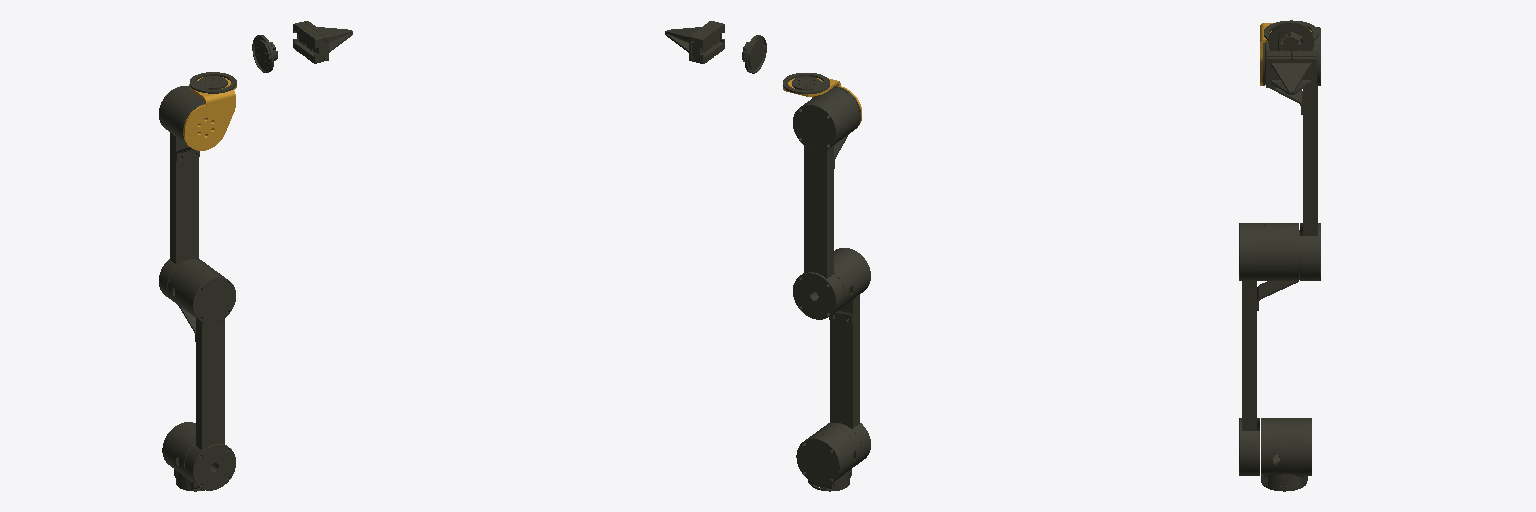
The robot description file, URDF, robot "ulixarm":
<?xml version="1.0" ?>
<!-- =================================================================================== -->
<!-- |    This document was autogenerated by xacro from src/ulixarm_description/urdf/robot.urdf.xacro | -->
<!-- |    EDITING THIS FILE BY HAND IS NOT RECOMMENDED                                 | -->
<!-- =================================================================================== -->
<robot name="ulixarm">
  <!-- CONSTANTS -->
  <!-- LINKS -->
  <link name="manipulator_base_link">
    <visual>
      <origin xyz="0. 0. 0."/>
      <geometry>
        <mesh filename="package://ulixarm_description/meshes/visual/base_link.dae"/>
      </geometry>
    </visual>
    <collision>
      <origin xyz="0. 0. 0."/>
      <geometry>
        <mesh filename="package://ulixarm_description/meshes/collision/base_link.stl"/>
      </geometry>
    </collision>
  </link>
  <link name="manipulator_link1">
    <visual>
      <origin xyz="0. 0. 0."/>
      <geometry>
        <mesh filename="package://ulixarm_description/meshes/visual/link1.dae"/>
      </geometry>
    </visual>
    <collision>
      <origin xyz="0. 0. 0."/>
      <geometry>
        <mesh filename="package://ulixarm_description/meshes/collision/link1.stl"/>
      </geometry>
    </collision>
    <inertial>
      <origin xyz="0. 0.002 0.043"/>
      <mass value="0.575"/>
      <inertia ixx="0.000434" ixy="0.0" ixz="0.0" iyy="0.000387" iyz="0.0" izz="0.000326"/>
    </inertial>
  </link>
  <link name="manipulator_link2">
    <visual>
      <origin xyz="0. 0. 0."/>
      <geometry>
        <mesh filename="package://ulixarm_description/meshes/visual/link2.dae"/>
      </geometry>
    </visual>
    <collision>
      <origin xyz="0. 0. 0."/>
      <geometry>
        <mesh filename="package://ulixarm_description/meshes/collision/link2.stl"/>
      </geometry>
    </collision>
    <inertial>
      <origin xyz="0.207 0. -0.005"/>
      <mass value="0.887"/>
      <inertia ixx="0.000679" ixy="0.0" ixz="0.001200" iyy="0.010762" iyz="0.0" izz="0.010534"/>
    </inertial>
  </link>
  <link name="manipulator_link3">
    <visual>
      <origin xyz="0. 0. 0."/>
      <geometry>
        <mesh filename="package://ulixarm_description/meshes/visual/link3.dae"/>
      </geometry>
    </visual>
    <collision>
      <origin xyz="0. 0. 0."/>
      <geometry>
        <mesh filename="package://ulixarm_description/meshes/collision/link3.stl"/>
      </geometry>
    </collision>
    <inertial>
      <origin xyz="0.202 0. -0.004"/>
      <mass value="0.819"/>
      <inertia ixx="0.000572" ixy="0.0" ixz="0.001045" iyy="0.010133" iyz="0.0" izz="0.009994"/>
    </inertial>
  </link>
  <link name="manipulator_link4">
    <visual>
      <origin xyz="0. 0. 0."/>
      <geometry>
        <mesh filename="package://ulixarm_description/meshes/visual/link4.dae"/>
      </geometry>
    </visual>
    <collision>
      <origin xyz="0. 0. 0."/>
      <geometry>
        <mesh filename="package://ulixarm_description/meshes/collision/link4.stl"/>
      </geometry>
    </collision>
    <inertial>
      <origin xyz="0.024 -0.017 -0.012"/>
      <mass value="0.175"/>
      <inertia ixx="0.000187" ixy="0.000068" ixz="0.000068" iyy="0.000206" iyz="-0.000047" izz="0.000235"/>
    </inertial>
  </link>
  <link name="manipulator_link5">
    <visual>
      <origin xyz="0. 0. 0."/>
      <geometry>
        <mesh filename="package://ulixarm_description/meshes/visual/link5.dae"/>
      </geometry>
    </visual>
    <collision>
      <origin xyz="0. 0. 0."/>
      <geometry>
        <mesh filename="package://ulixarm_description/meshes/collision/link5.stl"/>
      </geometry>
    </collision>
    <inertial>
      <origin xyz="0.028 0. -0.027"/>
      <mass value="0.786"/>
      <inertia ixx="0.000379" ixy="0.0" ixz="0.0" iyy="0.001085" iyz="0.0" izz="0.001097"/>
    </inertial>
  </link>
  <link name="manipulator_link6">
    <visual>
      <origin xyz="0. 0. 0."/>
      <geometry>
        <mesh filename="package://ulixarm_description/meshes/visual/link6.dae"/>
      </geometry>
    </visual>
    <inertial>
      <origin xyz="0. 0. 0.007"/>
      <mass value="0.025"/>
      <inertia ixx="0.000001" ixy="0.0" ixz="0.0" iyy="0.000001" iyz="0.0" izz="0.000001"/>
    </inertial>
  </link>
  <link name="manipulator_tool0">
    <inertial>
      <origin xyz="0. 0. 0."/>
      <mass value="0.001"/>
      <inertia ixx="0.000004" ixy="0.0" ixz="0.0" iyy="0.000003" iyz="0.0" izz="0.000006"/>
    </inertial>
  </link>
  <!-- JOINTS -->
  <joint name="joint1" type="revolute">
    <origin rpy="0. 0. 0." xyz="0. 0. 0.0645"/>
    <parent link="manipulator_base_link"/>
    <child link="manipulator_link1"/>
    <axis xyz="0 0 1"/>
    <limit effort="27.0" lower="-1.8326" upper="1.8326" velocity="8.0"/>
  </joint>
  <joint name="joint2" type="revolute">
    <origin rpy="1.570796326795 -1.570796326795 0." xyz="0. -0.031175 0.0495"/>
    <parent link="manipulator_link1"/>
    <child link="manipulator_link2"/>
    <axis xyz="0 0 1"/>
    <limit effort="27.0" lower="-1.570796326795" upper="1.25664" velocity="8.0"/>
  </joint>
  <joint name="joint3" type="revolute">
    <origin rpy="0. 3.14159265359 3.14159265359" xyz="0.280 0. -0.0523"/>
    <parent link="manipulator_link2"/>
    <child link="manipulator_link3"/>
    <axis xyz="0 0 1"/>
    <limit effort="27.0" lower="-1.570796326795" upper="2.82743" velocity="8.0"/>
  </joint>
  <joint name="joint4" type="revolute">
    <origin rpy="0. 3.14159265359 3.14159265359" xyz="0.280 0. -0.046"/>
    <parent link="manipulator_link3"/>
    <child link="manipulator_link4"/>
    <axis xyz="0 0 1"/>
    <limit effort="10.0" lower="-1.570796326795" upper="2.61799" velocity="30.0"/>
  </joint>
  <joint name="joint5" type="revolute">
    <origin rpy="1.570796326795 0. -1.570796326795" xyz="0.052 -0.036 -0.034"/>
    <parent link="manipulator_link4"/>
    <child link="manipulator_link5"/>
    <axis xyz="0 0 -1"/>
    <limit effort="10.0" lower="-1.8326" upper="1.8326" velocity="30.0"/>
  </joint>
  <joint name="joint6" type="revolute">
    <origin rpy="3.14159265359 -1.570796326795 0." xyz="0.0855 0. -0.0265"/>
    <parent link="manipulator_link5"/>
    <child link="manipulator_link6"/>
    <axis xyz="0 0 1"/>
    <limit effort="10.0" lower="-2.93215" upper="2.93215" velocity="30.0"/>
  </joint>
  <joint name="joint_tool0" type="fixed">
    <origin rpy="0. 0. 0." xyz="0. 0. 0.005"/>
    <parent link="manipulator_link6"/>
    <child link="manipulator_tool0"/>
  </joint>
  <!-- CONSTANTS -->
  <!-- LINKS -->
  <link name="gripper_base_link">
    <visual>
      <origin xyz="0. 0. 0."/>
      <geometry>
        <mesh filename="package://ulixarm_description/meshes/visual/gripper_with_camera.dae"/>
      </geometry>
    </visual>
    <collision>
      <origin xyz="0. 0. 0."/>
      <geometry>
        <mesh filename="package://ulixarm_description/meshes/collision/gripper_with_camera.stl"/>
      </geometry>
    </collision>
    <inertial>
      <origin xyz="-0.012 0. 0.036"/>
      <mass value="0.71"/>
      <inertia ixx="0.000939" ixy="0.0" ixz="0.0" iyy="0.000987" iyz="0.0" izz="0.001086"/>
    </inertial>
  </link>
  <link name="gripper_finger_right">
    <visual>
      <origin xyz="0. 0. 0."/>
      <geometry>
        <mesh filename="package://ulixarm_description/meshes/visual/finger.dae"/>
      </geometry>
    </visual>
    <collision>
      <origin xyz="0. 0. 0."/>
      <geometry>
        <mesh filename="package://ulixarm_description/meshes/collision/finger.stl"/>
      </geometry>
    </collision>
    <inertial>
      <origin xyz="0.010 0.002 -0.040"/>
      <mass value="0.01"/>
      <inertia ixx="0.000034" ixy="0.0" ixz="0.0" iyy="0.000048" iyz="0.0" izz="0.000026"/>
    </inertial>
  </link>
  <link name="gripper_finger_left">
    <visual>
      <origin xyz="0. 0. 0."/>
      <geometry>
        <mesh filename="package://ulixarm_description/meshes/visual/finger.dae"/>
      </geometry>
    </visual>
    <collision>
      <origin xyz="0. 0. 0."/>
      <geometry>
        <mesh filename="package://ulixarm_description/meshes/collision/finger.stl"/>
      </geometry>
    </collision>
    <inertial>
      <origin xyz="0.010 0.002 -0.040"/>
      <mass value="0.01"/>
      <inertia ixx="0.000034" ixy="0.0" ixz="0.0" iyy="0.000048" iyz="0.0" izz="0.000026"/>
    </inertial>
  </link>
  <!-- JOINTS -->
  <joint name="finger_right_joint" type="prismatic">
    <origin rpy="0. 0. 1.570796326795" xyz="0. 0. 0.0745"/>
    <parent link="gripper_base_link"/>
    <child link="gripper_finger_right"/>
    <axis xyz="1 0 0"/>
    <limit effort="10.0" lower="0.0" upper="0.045" velocity="0.5"/>
  </joint>
  <joint name="finger_left_joint" type="prismatic">
    <origin rpy="0. 0. -1.570796326795" xyz="0. 0. 0.0745"/>
    <parent link="gripper_base_link"/>
    <child link="gripper_finger_left"/>
    <axis xyz="1 0 0"/>
    <mimic joint="finger_right_joint" multiplier="1" offset="0"/>
    <limit effort="10.0" lower="0.0" upper="0.045" velocity="0.5"/>
  </joint>
  <!-- Attach gripper base to the arm's end-effector link -->
  <joint name="manipulator_to_gripper" type="fixed">
    <parent link="manipulator_tool0"/>
    <child link="gripper_base_link"/>
    <origin rpy="0 0 0" xyz="0 0 0"/>
  </joint>
</robot>

--- Render facts (derived) ---
3 views of the same robot in one strip: view 1: azimuth 30°, elevation 25°; view 2: azimuth 150°, elevation 25°; view 3: azimuth 270°, elevation 25° (orthographic).
Model ulixarm with 11 links and 10 joints (6 revolute, 2 prismatic, 2 fixed), rooted at manipulator_base_link, posed every joint at zero.
Links seen in each view (by area): view 1: manipulator_link2, manipulator_link3, manipulator_link4, manipulator_link1, gripper_finger_left, manipulator_link6, gripper_finger_right; view 2: manipulator_link3, manipulator_link2, manipulator_link1, manipulator_link4, gripper_finger_right, manipulator_link6, gripper_finger_left; view 3: manipulator_link2, manipulator_link3, manipulator_link1, manipulator_link6, gripper_finger_right, gripper_finger_left, manipulator_link4.
Boxes of the visible links, x1,y1,x2,y2 form: manipulator_link2: [168, 259, 235, 490]; manipulator_link3: [159, 86, 204, 299]; manipulator_link4: [182, 72, 236, 150]; manipulator_link1: [162, 422, 204, 491]; gripper_finger_left: [304, 28, 352, 63]; manipulator_link6: [252, 35, 277, 72]; gripper_finger_right: [293, 21, 351, 55]; manipulator_link3: [793, 87, 859, 319]; manipulator_link2: [828, 248, 870, 464]; manipulator_link1: [796, 423, 861, 491]; manipulator_link4: [783, 73, 861, 128]; gripper_finger_right: [665, 29, 713, 63]; manipulator_link6: [742, 35, 766, 73]; gripper_finger_left: [667, 21, 724, 55]; manipulator_link2: [1239, 223, 1299, 475]; manipulator_link3: [1265, 27, 1320, 280]; manipulator_link1: [1261, 418, 1311, 491]; manipulator_link6: [1269, 21, 1313, 51]; gripper_finger_right: [1291, 51, 1316, 94]; gripper_finger_left: [1266, 51, 1290, 94]; manipulator_link4: [1260, 20, 1318, 85].
Bounding box of the posed robot: 0.3185 × 0.1053 × 0.7175 m (x, y, z).
7 mesh visuals loaded from 9 distinct referenced files (6 Collada DAE); not drawn: 2 (reference not matched to a file when rendering), 1 (file found but could not be loaded).
